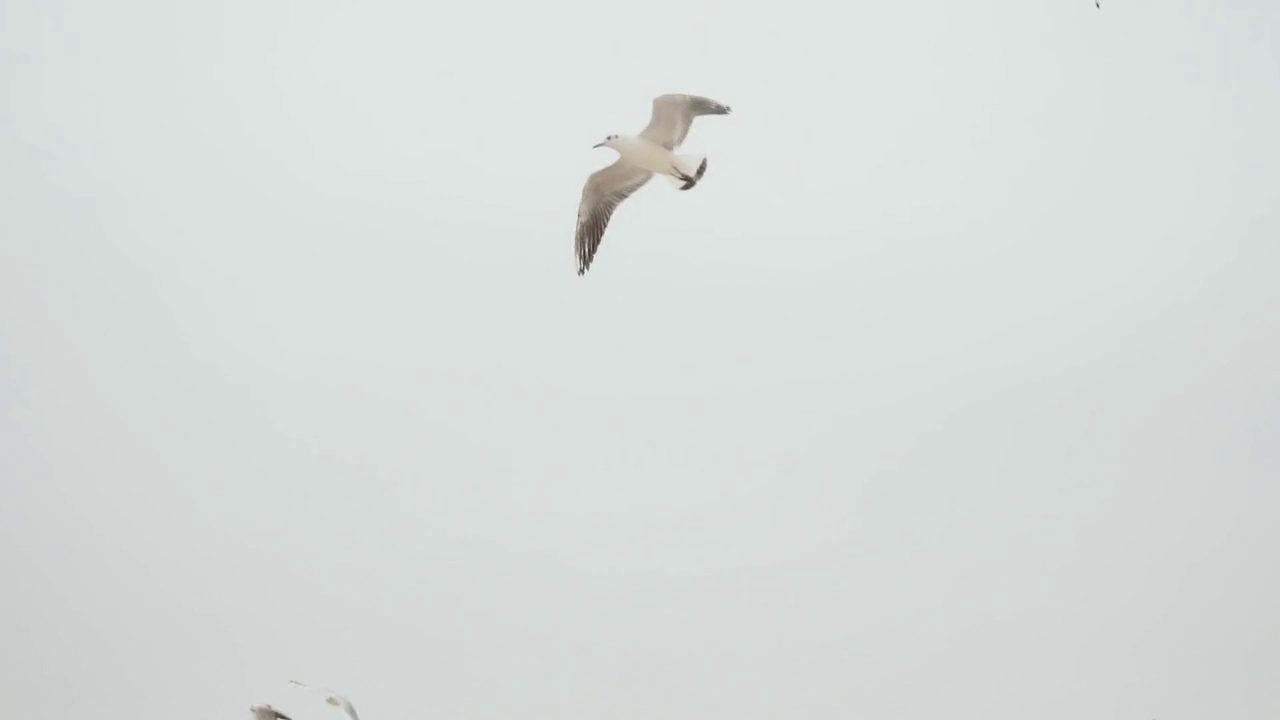bird: (577, 91, 731, 277)
